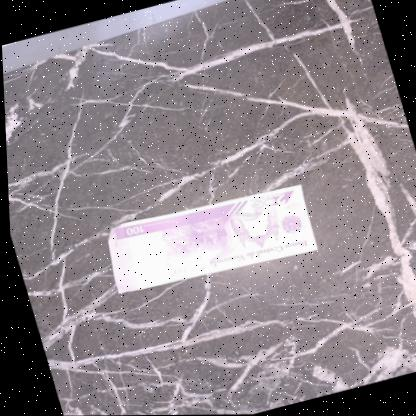one_hundred-back-vef: (95, 177, 320, 301)
